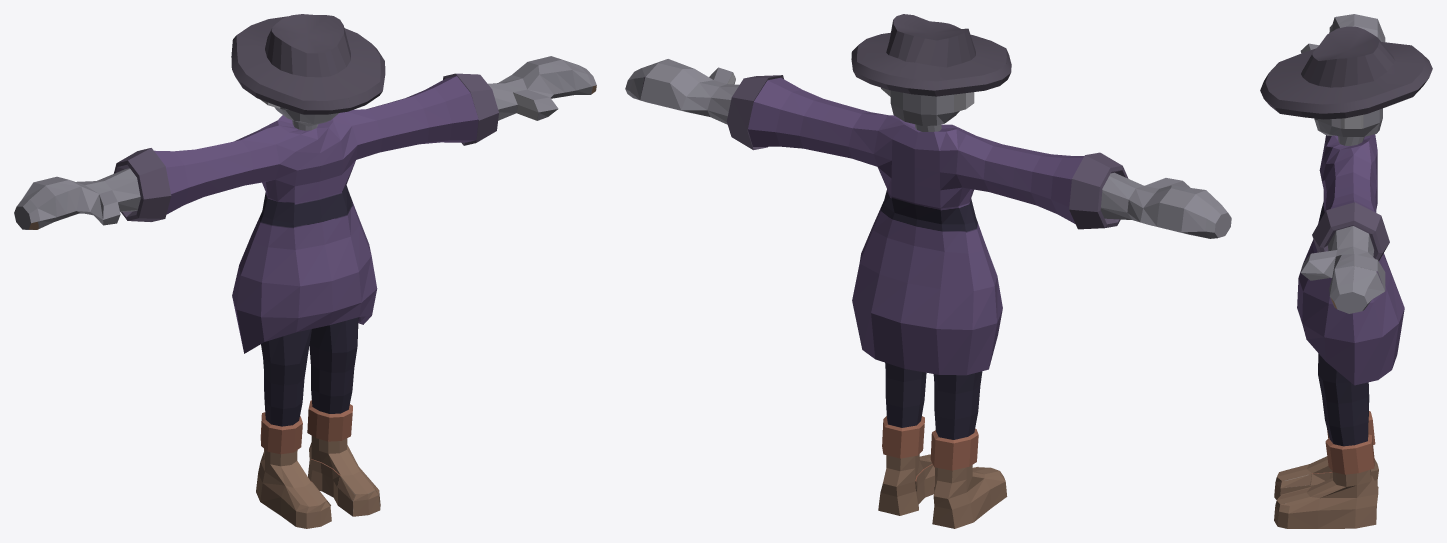
Rendered from finalOzFBX.fbx.
The picture shows the model from 3 angles, left to right: view 1: azimuth 30°, elevation 25°; view 2: azimuth 150°, elevation 25°; view 3: azimuth 270°, elevation 25°; orthographic projection. The views are drawn at different scales.
Visible parts, largest first — view 1: pCube1, pCylinder1; view 2: pCube1, pCylinder1; view 3: pCube1, pCylinder1.
Boxes of the visible parts, x1,y1,x2,y2 form: pCube1: (14, 56, 596, 528); pCylinder1: (231, 14, 385, 114); pCube1: (625, 59, 1231, 528); pCylinder1: (851, 14, 1011, 96); pCube1: (1274, 14, 1404, 528); pCylinder1: (1260, 26, 1432, 119).
Size of the model in its own units: 16.36 by 12.85 by 4.31.
Materials: 2 (2 with a texture image).
